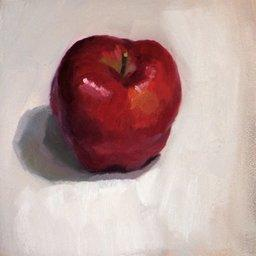apple: (51, 34, 180, 176)
